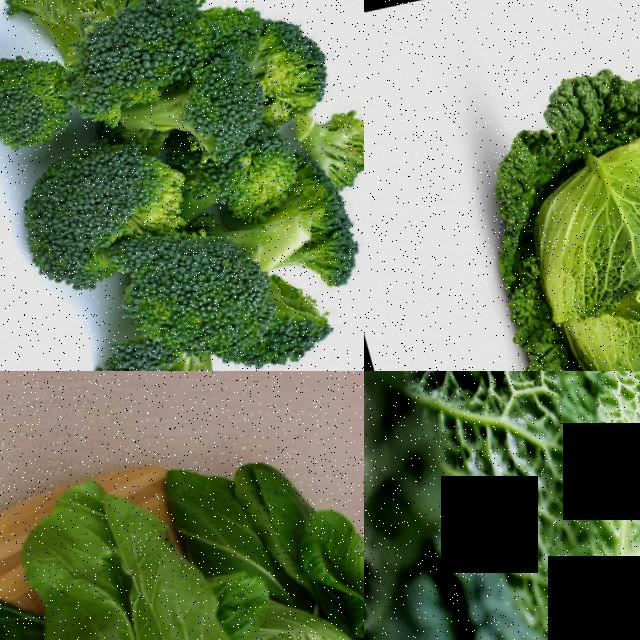-: (0, 0, 200, 152), (103, 227, 290, 371), (102, 57, 252, 165), (7, 147, 160, 249), (262, 17, 340, 124), (65, 329, 229, 371)
bok choy: (0, 459, 291, 640), (175, 420, 364, 640)
cabbage: (409, 2, 640, 371), (380, 371, 640, 640)
